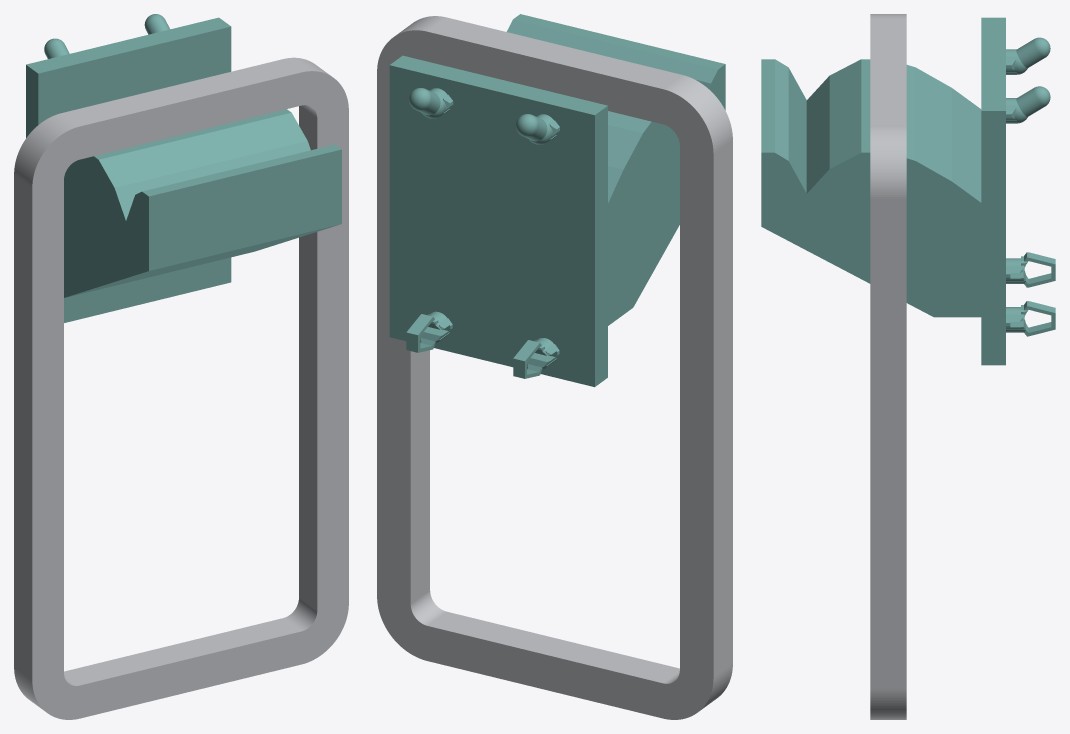
File: loaded.glb
3 renders of one model, left to right at view 1: azimuth 30°, elevation 25°; view 2: azimuth 150°, elevation 25°; view 3: azimuth 270°, elevation 25°, orthographic. The views are drawn at different scales.
Visible parts, largest first — view 1: reference_envelope, holder; view 2: reference_envelope, holder; view 3: holder, reference_envelope.
Boxes of the visible parts, x1,y1,x2,y2 form: reference_envelope: [14, 57, 348, 719]; holder: [26, 14, 341, 322]; reference_envelope: [377, 16, 732, 719]; holder: [389, 14, 725, 387]; holder: [761, 17, 1055, 365]; reference_envelope: [870, 14, 906, 719].
Size of the model in its own units: 0.08 by 0.1454 by 0.0648.
